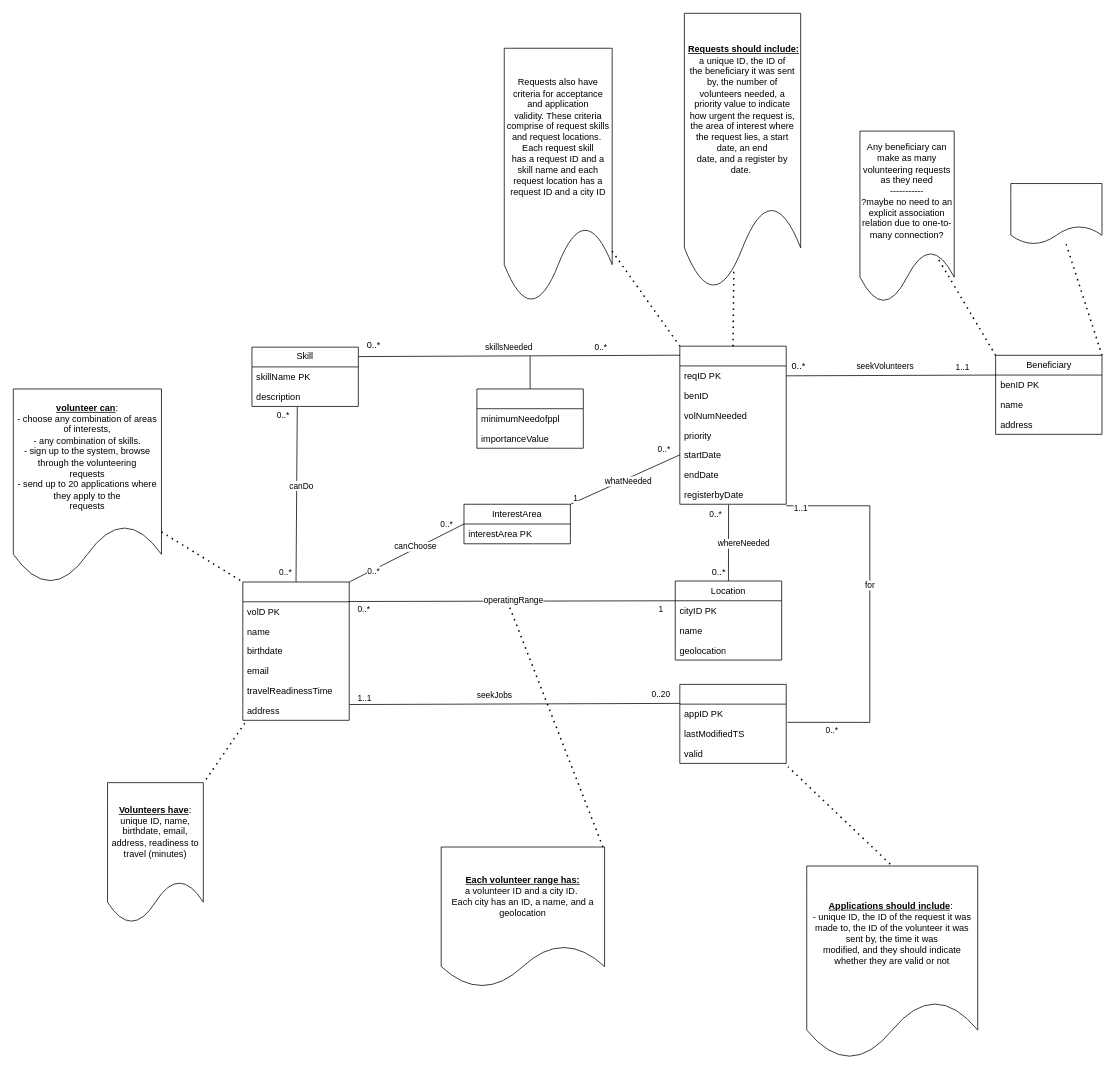
Some shapes in this 1116 by 1072 pixel diagram are drawn without their labels. The box of each missing label's shape, as (x1, y1, x2, y2) in pixels:
Application: (679, 684, 786, 763)
Beneficiaries have: unique IDs, names, and addresses: (1010, 183, 1102, 244)
Request: (679, 345, 786, 504)
SkillAppraisal: (476, 388, 583, 448)
Volunteer: (242, 581, 349, 720)
